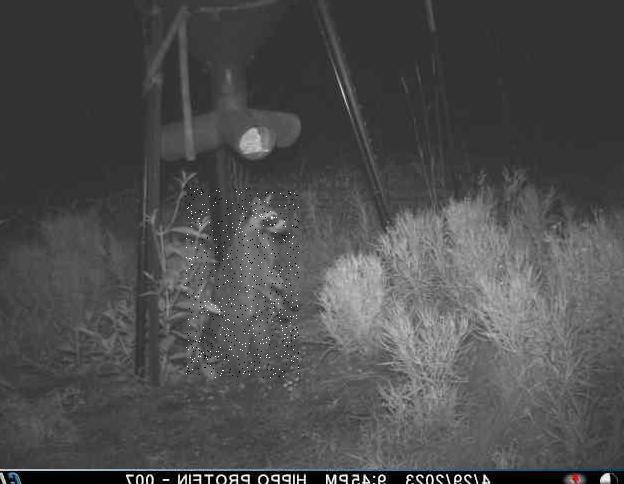Raccoon: (184, 188, 298, 378)
